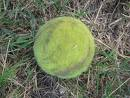tennis ball: (32, 15, 95, 80)
